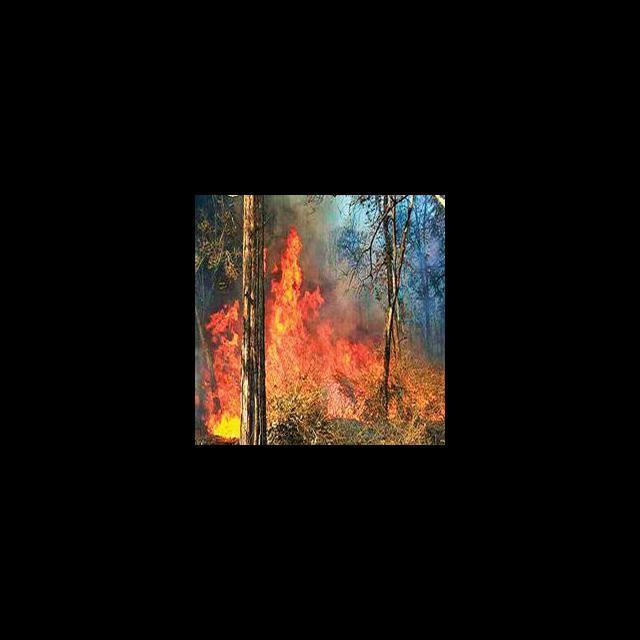Fire: (266, 227, 445, 425), (195, 291, 242, 439)
